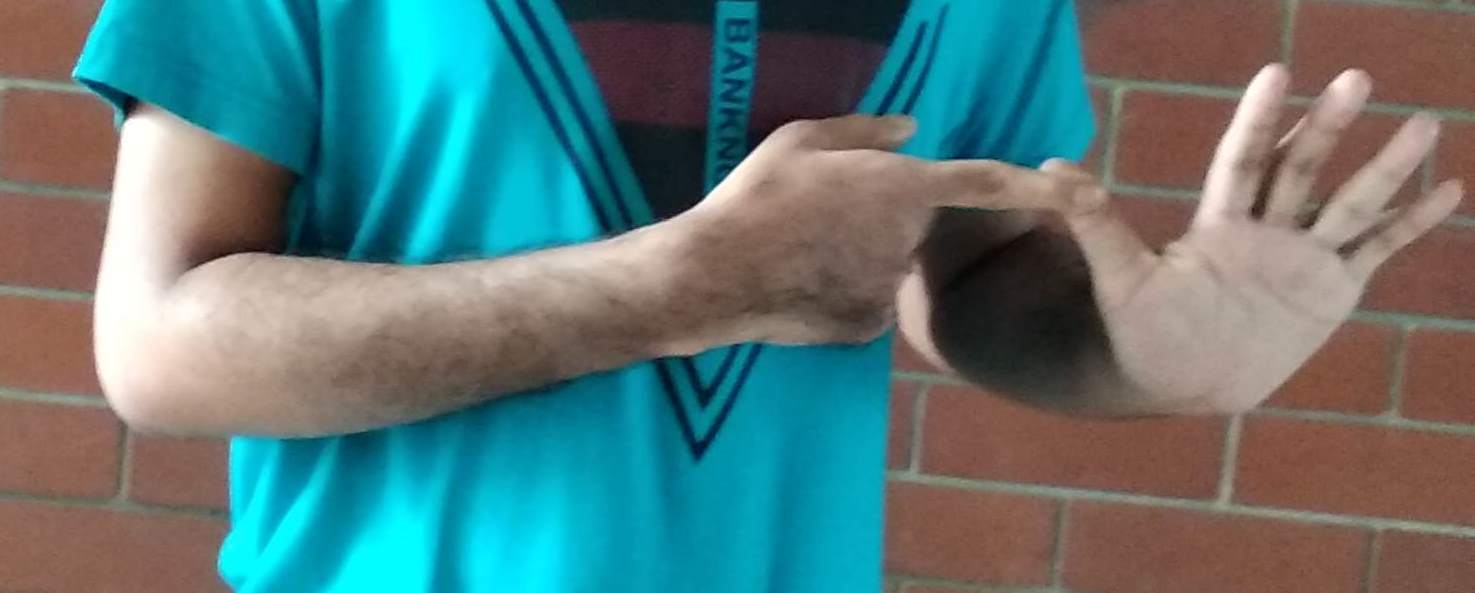a: (698, 58, 1466, 394)
